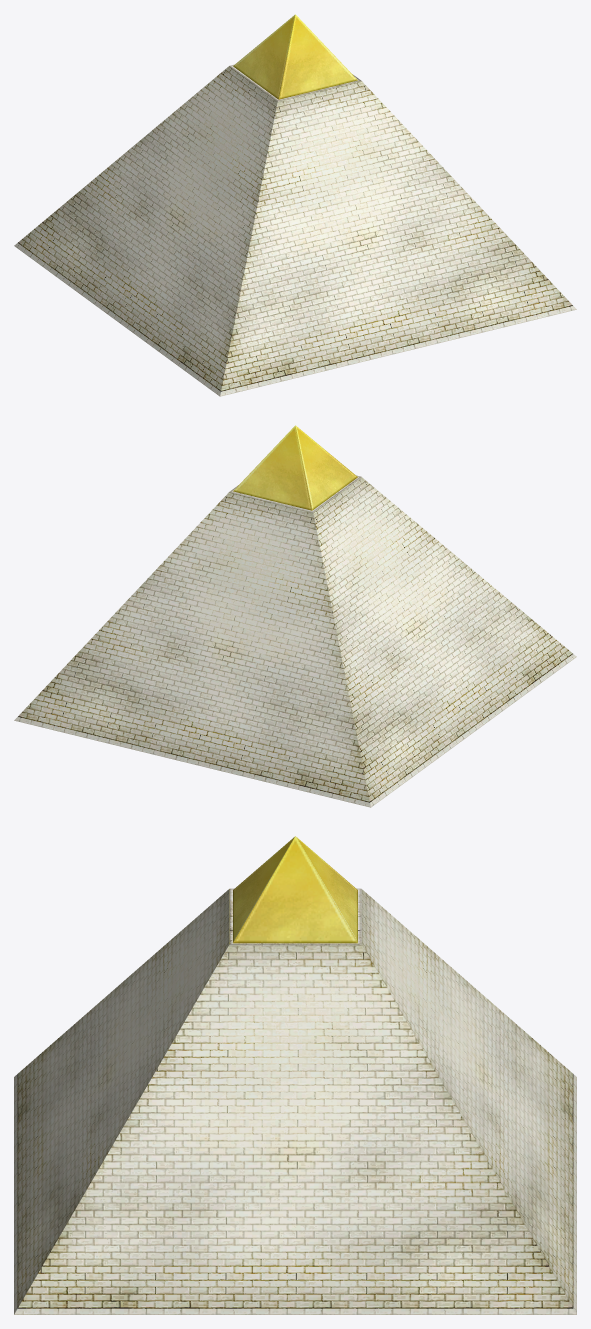
The model's file is pyramid_small.dae.
3 views of the same model, one above another, from view 1: azimuth 30°, elevation 25°; view 2: azimuth 150°, elevation 25°; view 3: azimuth 270°, elevation 25° (orthographic). The views are drawn at different scales.
Parts seen in each view (by area): view 1: Pyramid_Small; view 2: Pyramid_Small; view 3: Pyramid_Small.
Part boxes in pixels (box(x1,y1,x2,y2)): Pyramid_Small: box(14, 14, 576, 396); Pyramid_Small: box(14, 425, 576, 807); Pyramid_Small: box(14, 836, 576, 1314).
Size of the model in its own units: 33.87 by 33.87 by 23.89.
